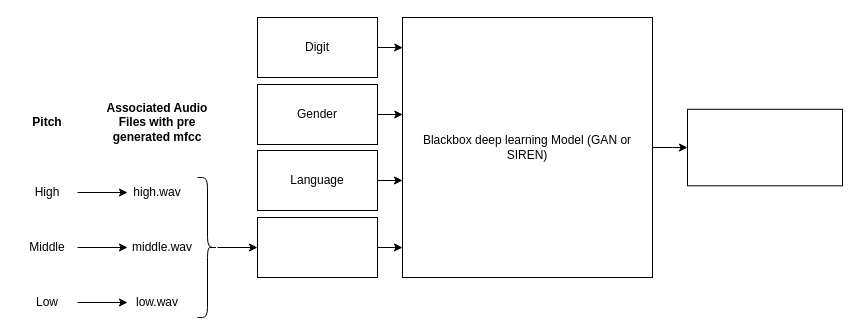
Image size: 860x335. Some labels were removed from this diagram. The centre of each missing label's shape, as x and y in pixels:
Audio of digit with voice of specified gender, langauge and pitch: point (764, 147)
Pitch (MFCC coefficients reference): point (317, 247)
